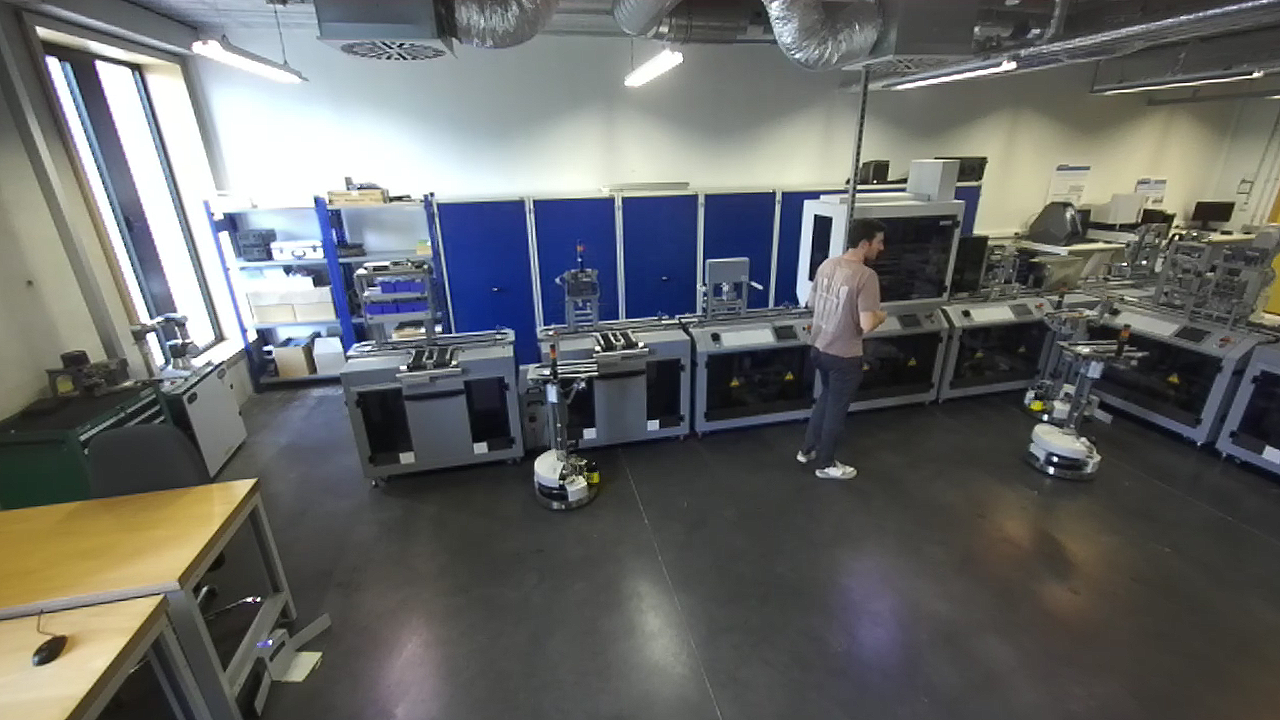AMR: (1028, 314, 1147, 485), (524, 331, 606, 513)
Human: (794, 217, 886, 481)
